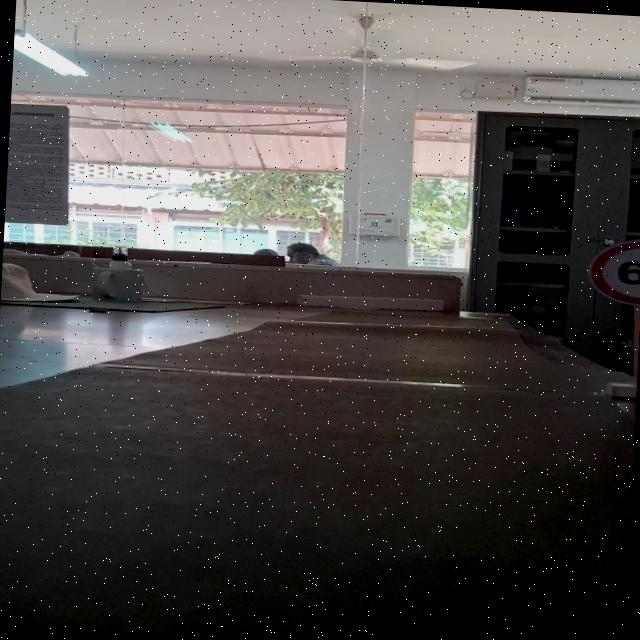Speed60: (583, 233, 640, 308)
